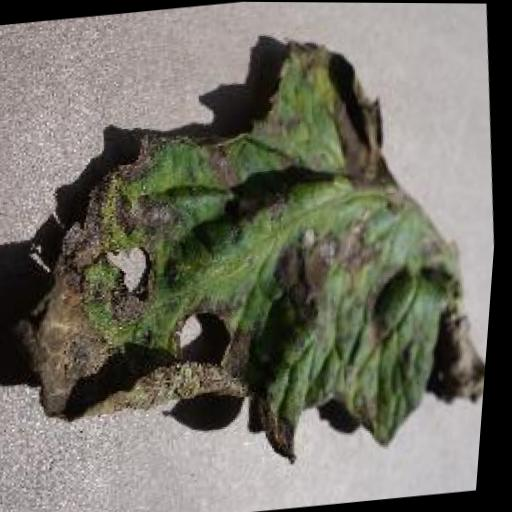Early Blight: (1, 26, 510, 487)
